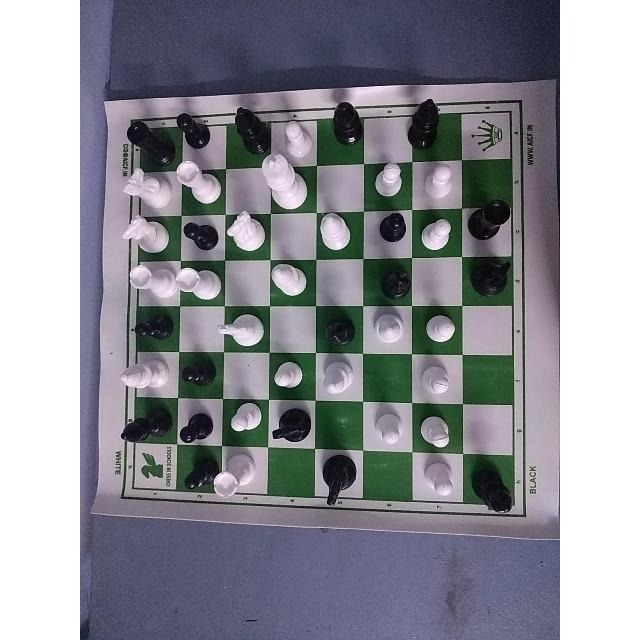black-bishop: (466, 460, 522, 520), (114, 408, 172, 452), (327, 102, 367, 150), (406, 95, 440, 147), (226, 104, 261, 152), (381, 264, 415, 302), (324, 308, 356, 348)
black-knight: (318, 457, 362, 504), (468, 258, 512, 302), (272, 408, 313, 452)
black-pawn: (131, 302, 187, 342), (177, 212, 218, 252), (181, 353, 220, 394), (180, 405, 214, 449), (180, 455, 214, 495), (176, 109, 211, 147), (372, 211, 407, 246)
black-rook: (118, 118, 174, 158), (468, 199, 512, 247)
white-bishop: (115, 352, 171, 395), (269, 256, 313, 308), (320, 212, 354, 258), (318, 358, 356, 399), (370, 310, 407, 350)
white-king: (260, 153, 308, 211)
white-knight: (119, 210, 171, 255), (126, 162, 174, 209), (212, 309, 263, 353), (225, 213, 265, 255)
white-pawn: (366, 396, 404, 448), (419, 460, 460, 506), (415, 356, 453, 402), (417, 215, 456, 259), (417, 412, 456, 453), (420, 309, 460, 348), (371, 159, 406, 200), (281, 117, 318, 155), (270, 353, 302, 394), (419, 164, 455, 200), (227, 397, 257, 436)
white-rook: (176, 153, 223, 206), (126, 263, 176, 304), (180, 259, 224, 303), (216, 456, 257, 495)
